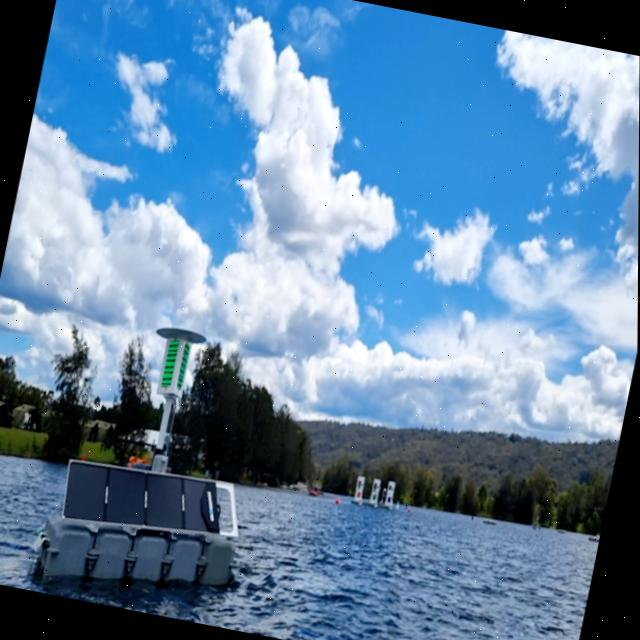led: (158, 338, 183, 389), (173, 340, 193, 392)
